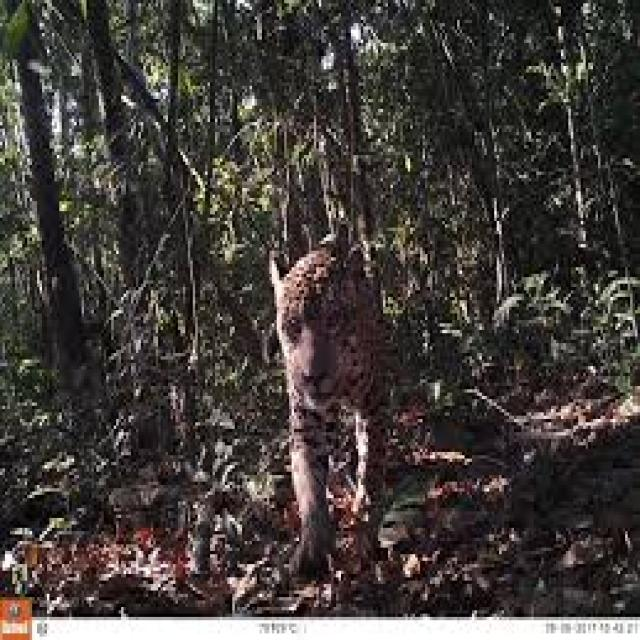Jaguar: (250, 234, 400, 564)
